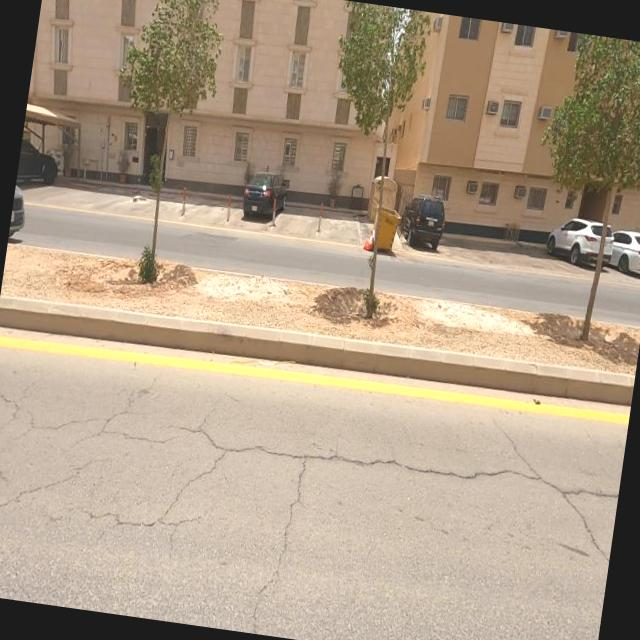debris: (344, 198, 396, 281)
